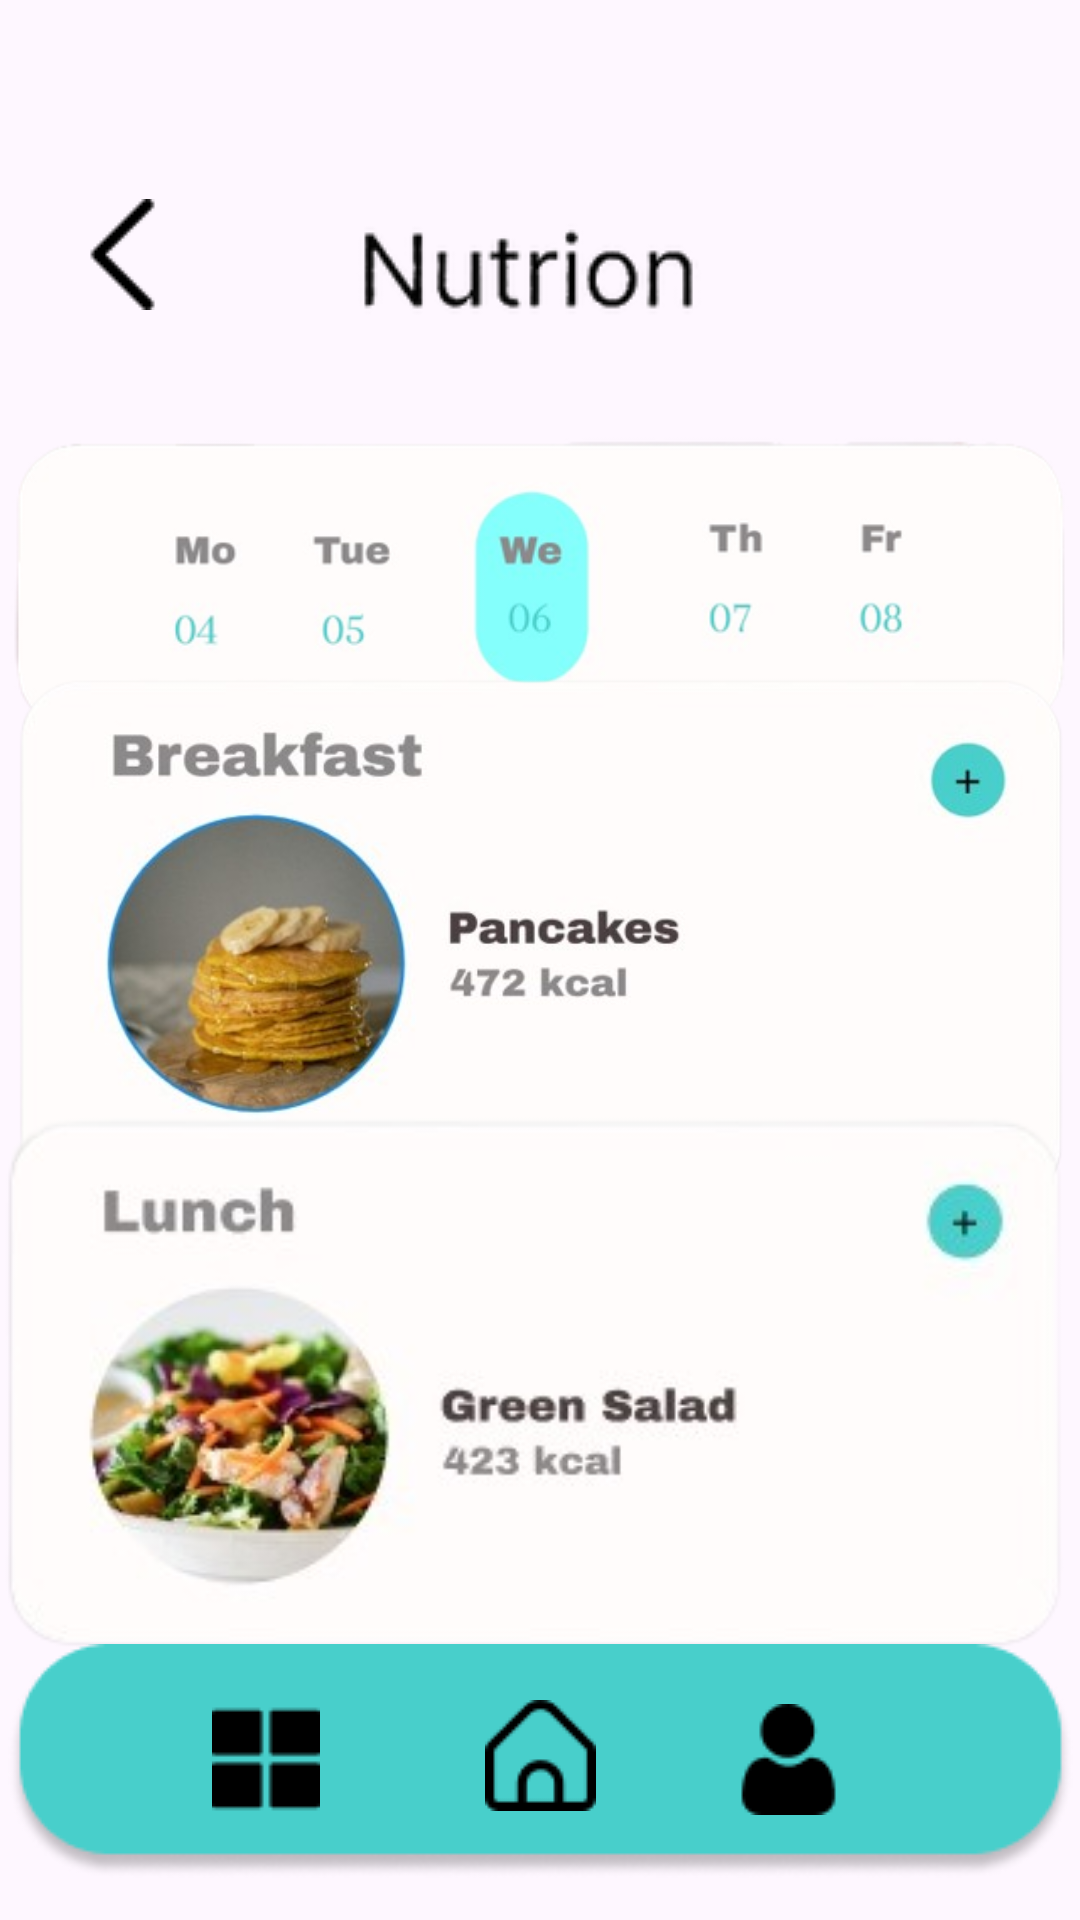

Named icons in this screenshot (1080px×1920px) and their bounding boxes, box=[x1, y1, x2, y2]:
iconback: box=[90, 199, 155, 310]
